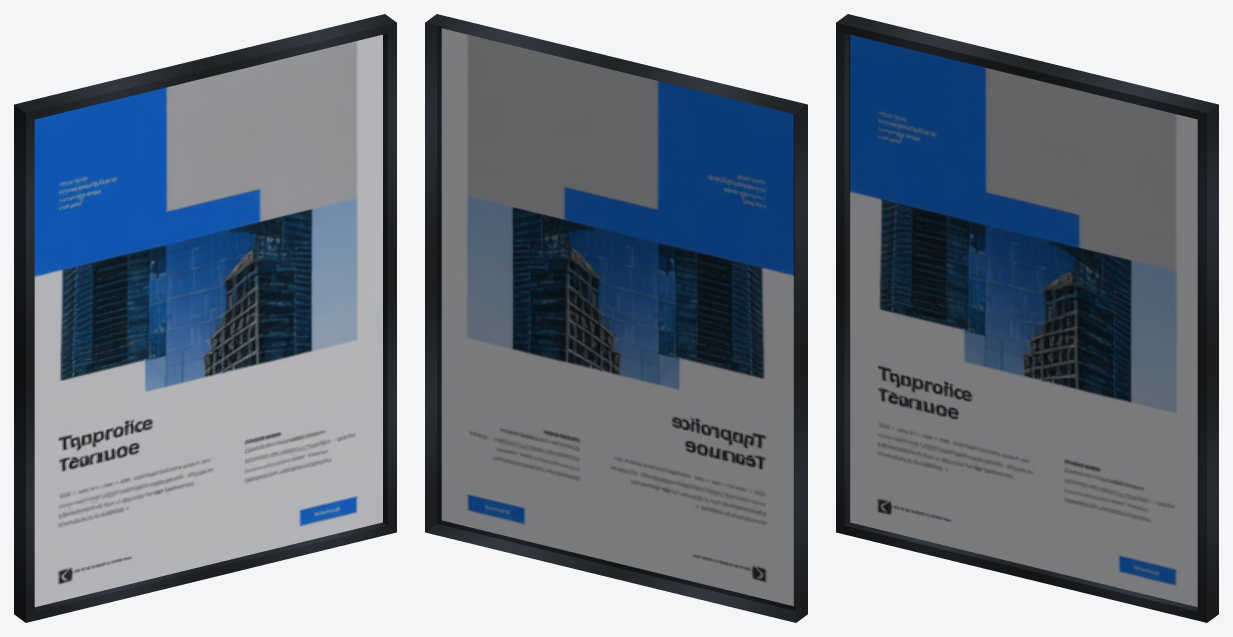
Rendered from wallart04.glb.
The picture shows the model from 3 angles, left to right: view 1: azimuth 30°, elevation 25°; view 2: azimuth 150°, elevation 25°; view 3: azimuth 330°, elevation 25°; orthographic projection.
Visible parts, largest first — view 1: art01.003; view 2: art01.003; view 3: art01.003.
Boxes of the visible parts, <box> form: art01.003: <box>14,14,396,622</box>; art01.003: <box>425,14,807,622</box>; art01.003: <box>836,14,1218,622</box>.
Bounding box in the file's own units: 1.07 × 1.4 × 0.0591.
1 material, 1 textured.
